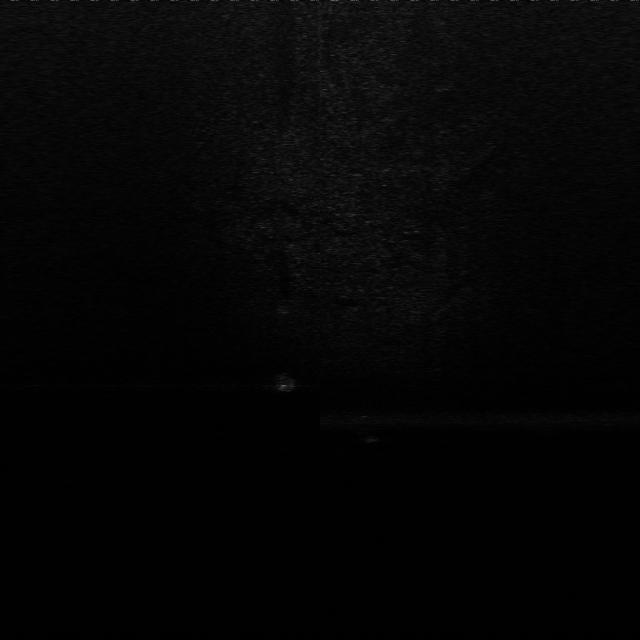ball: (268, 300, 298, 320)
circle cage: (269, 372, 303, 394)
tyre: (348, 410, 389, 446)
